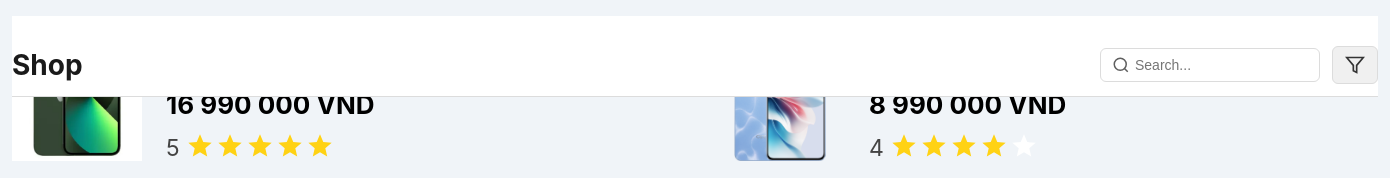
Scenario: Shop Component › renders empty state when no products match the search term
Step 1. Type "NonExistentProduct" into the field with placeholder "Search..." → (1210, 65), box x1=1100 y1=48 x2=1320 y2=82
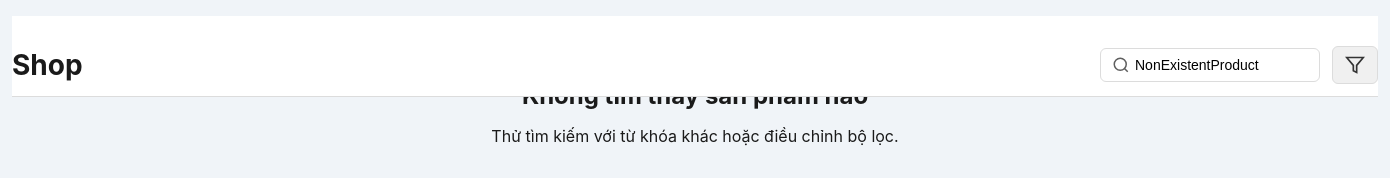
Check: the heading "Không tìm thấy sản phẩm nào" is shown, box x1=522 y1=81 x2=868 y2=110
